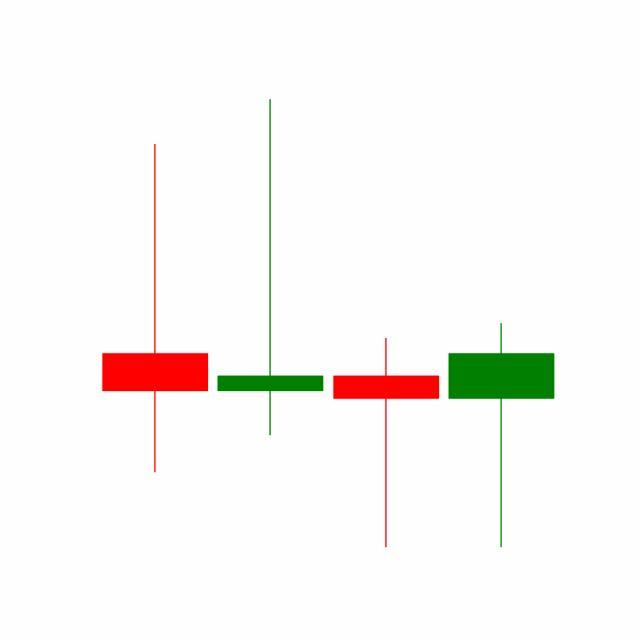Hanging Man: (444, 321, 560, 551)
